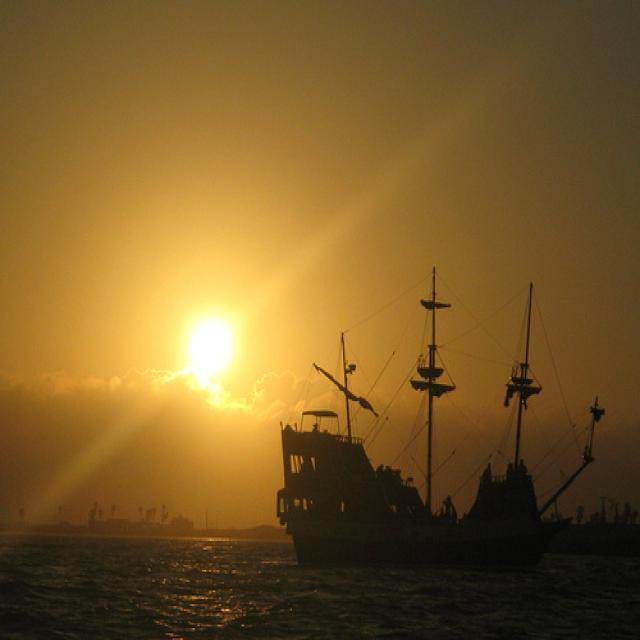Boat: (269, 289, 610, 586)
